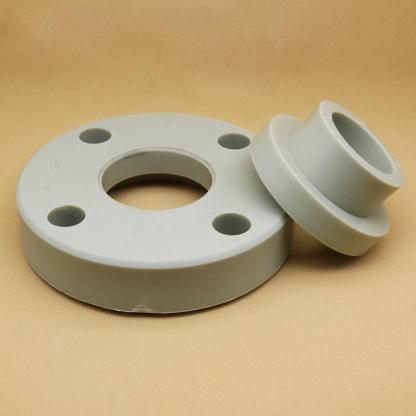FOD: (13, 113, 295, 316)
